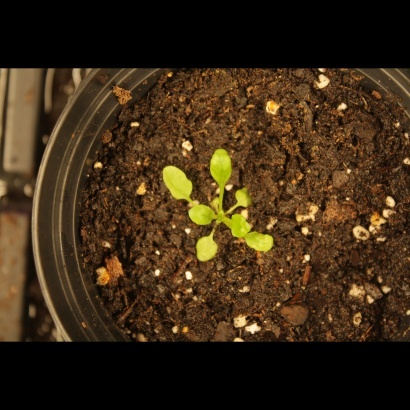leaf: (159, 164, 195, 204), (207, 146, 237, 189), (184, 201, 218, 229), (196, 231, 220, 270), (244, 230, 280, 256), (224, 211, 255, 241), (233, 185, 258, 208)
